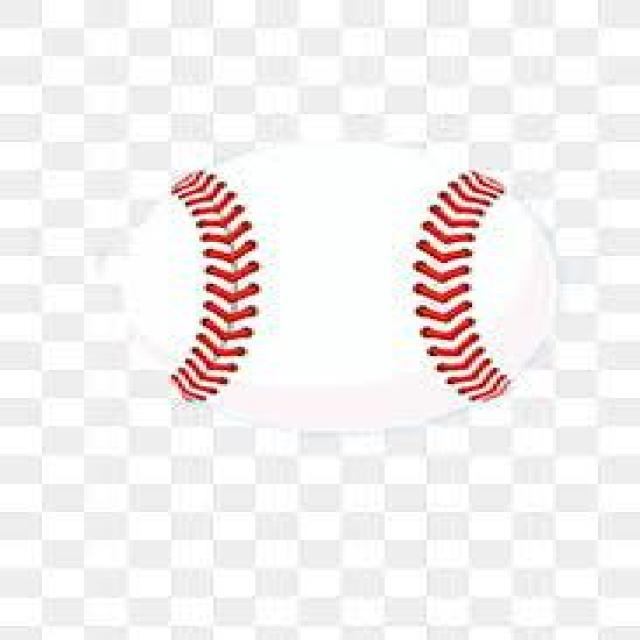ball: (105, 145, 561, 444)
